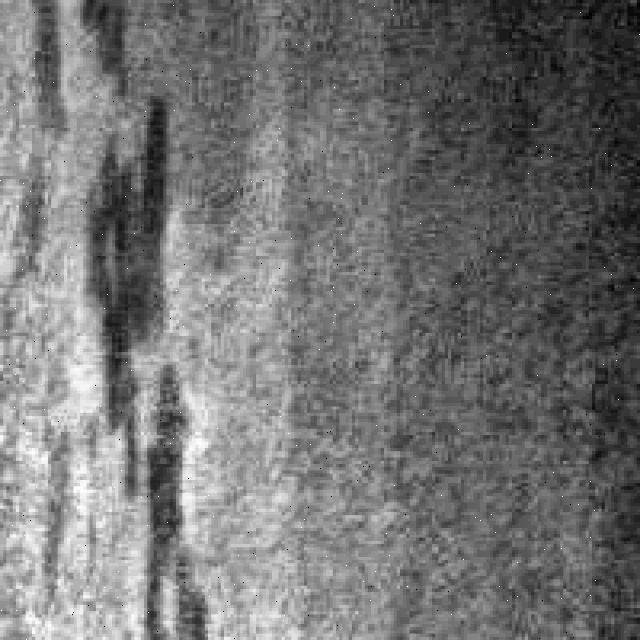Patches: (74, 6, 218, 628)
